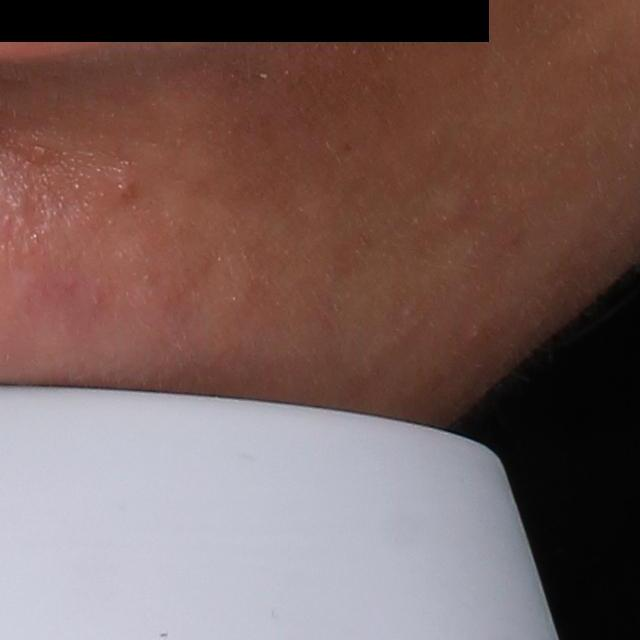papule: (111, 173, 149, 200)
